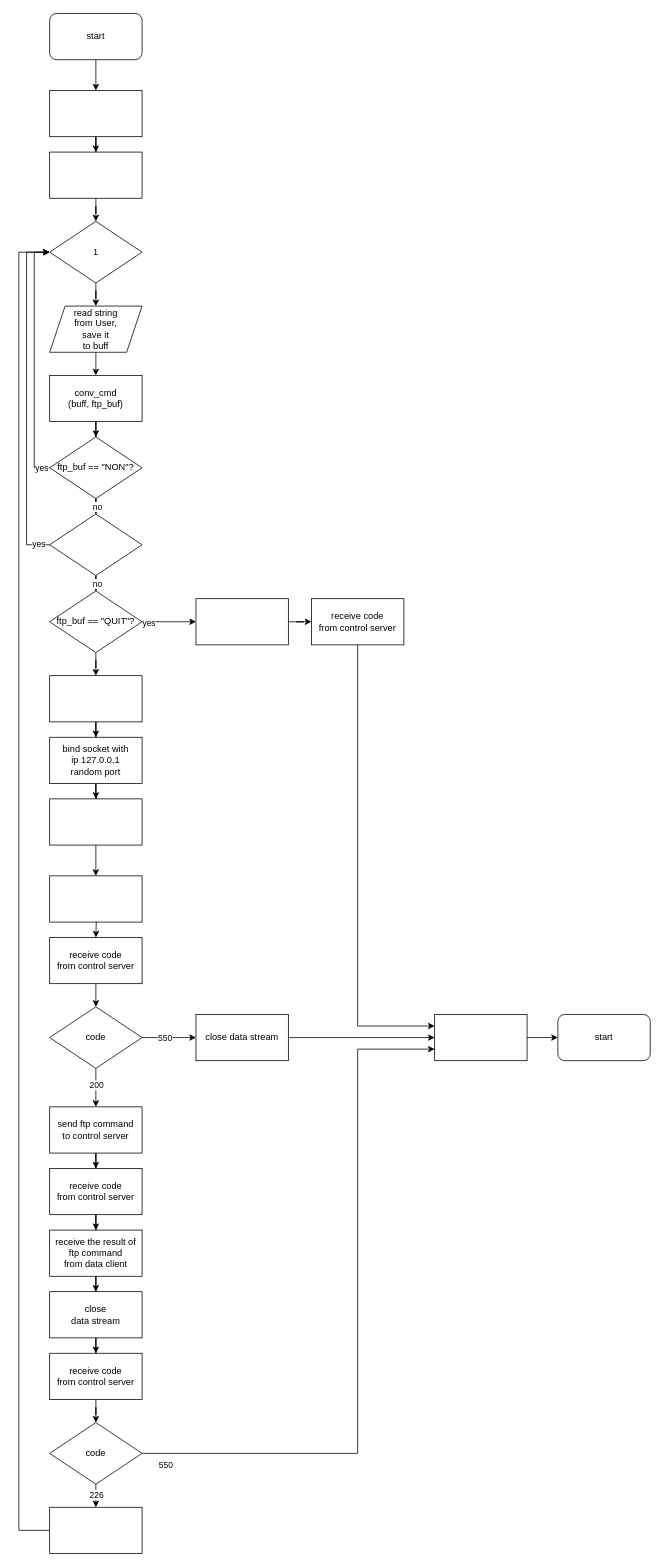
Image size: 664x1567. Some labels were removed from this diagram. The box of each missing label's shape, as (x1, y1, x2, y2) in pixels:
accept data client: (49, 875, 142, 922)
close control stream: (434, 1014, 527, 1061)
connect to server: (49, 151, 142, 198)
ftp_buf == "WRONG"?: (49, 513, 142, 576)
listen size 5: (49, 798, 142, 845)
oepn data socket: (49, 675, 142, 722)
oepn server socket: (49, 90, 142, 137)
print bytes received: (49, 1507, 142, 1553)
send "QUIT" to control server: (195, 598, 288, 645)
